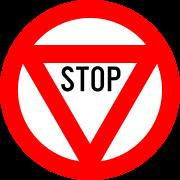Stop: (2, 15, 176, 173)
